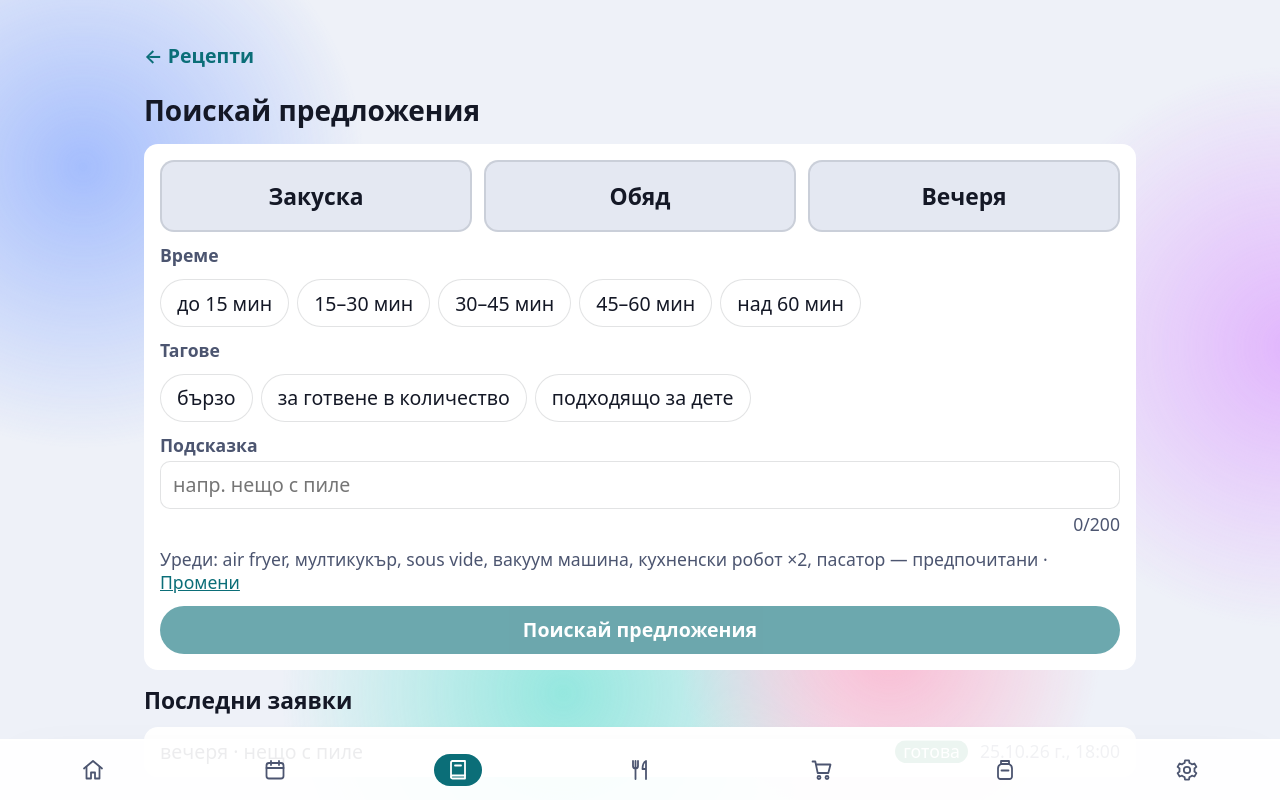
Test: SuggestForm › 503 openclaw_unavailable показва, че AI не е наличен
Click the button "Обяд": (640, 196) 484,160 -> 796,232
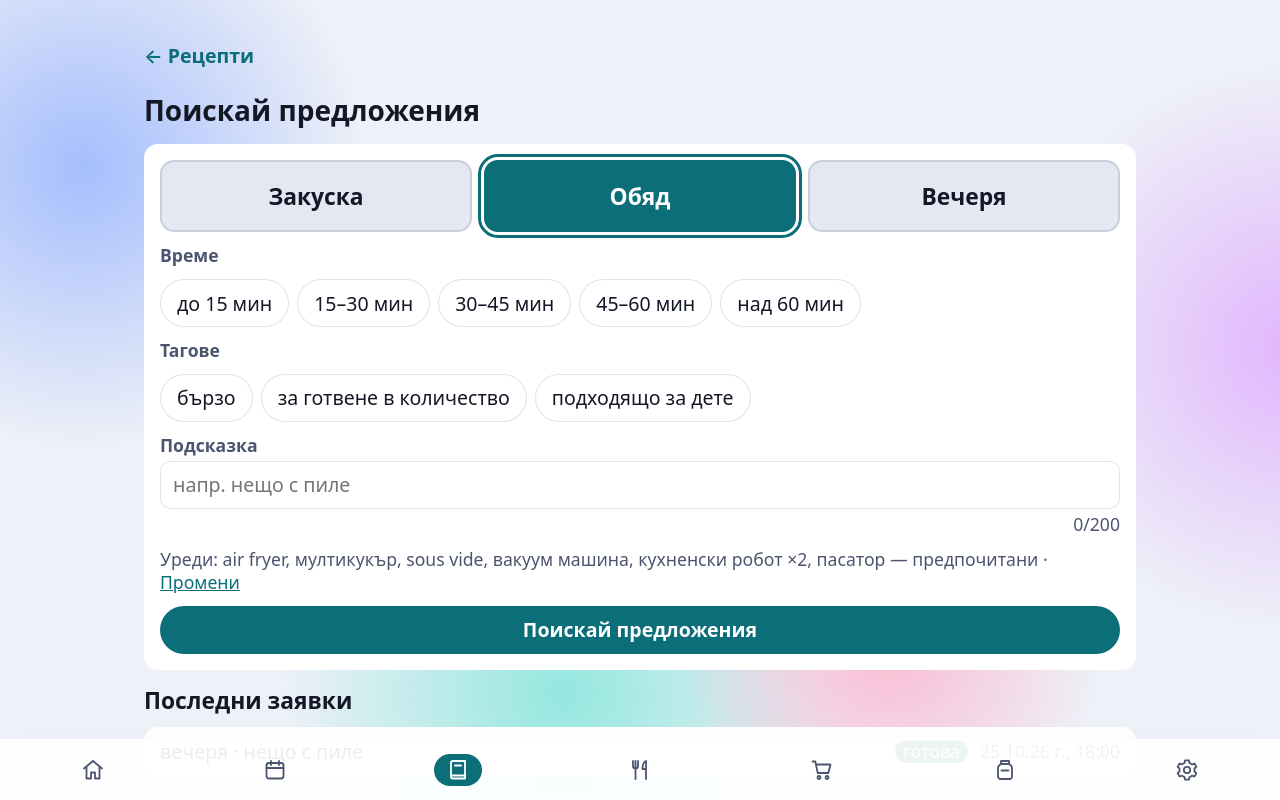
Click the button "Поискай предложения": (640, 630) 160,606 -> 1120,654
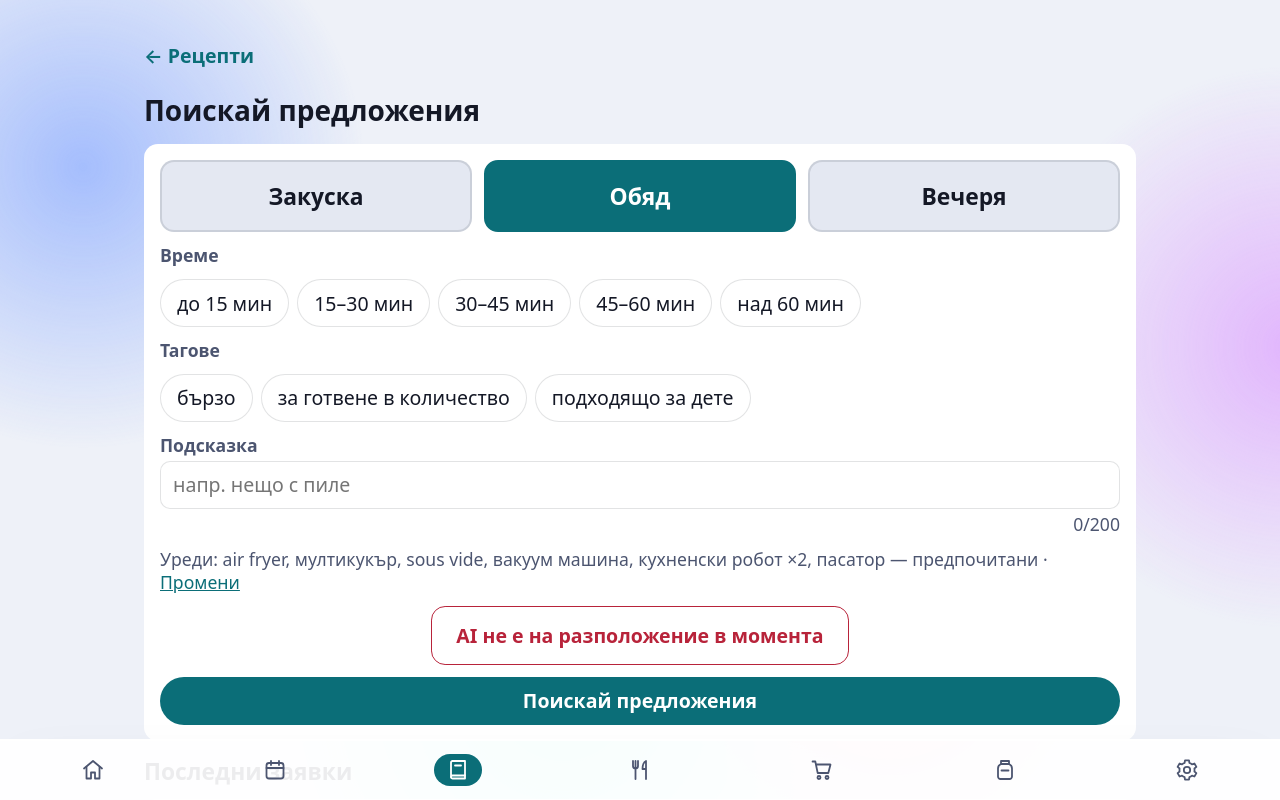
Expected: the message reads "AI не е на разположение в момента", 456,622 -> 824,648
